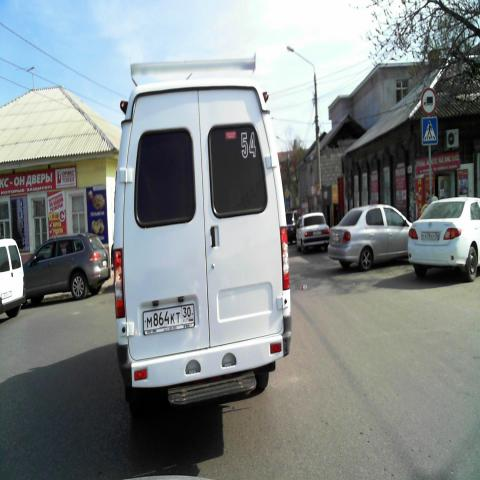3_4_1: (422, 87, 436, 113)
